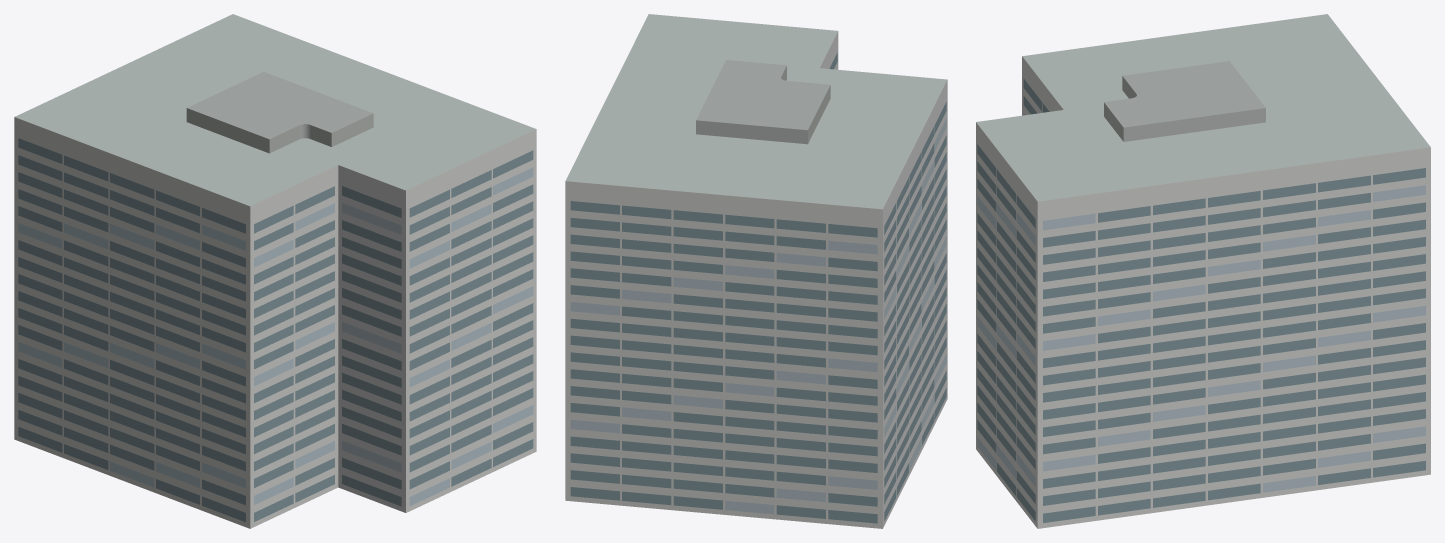
File: apt-a15605001.glb
3 views of the same model, side by side, from view 1: azimuth 30°, elevation 25°; view 2: azimuth 150°, elevation 25°; view 3: azimuth 270°, elevation 25° (orthographic). The views are drawn at different scales.
Parts seen in each view (by area): view 1: apt-a15605001; view 2: apt-a15605001; view 3: apt-a15605001.
Part boxes in pixels (box(x1,y1,x2,y2)): apt-a15605001: box(14, 14, 536, 528); apt-a15605001: box(565, 14, 947, 528); apt-a15605001: box(976, 14, 1430, 528).
Size of the model in its own units: 67.19 by 57 by 68.81.
